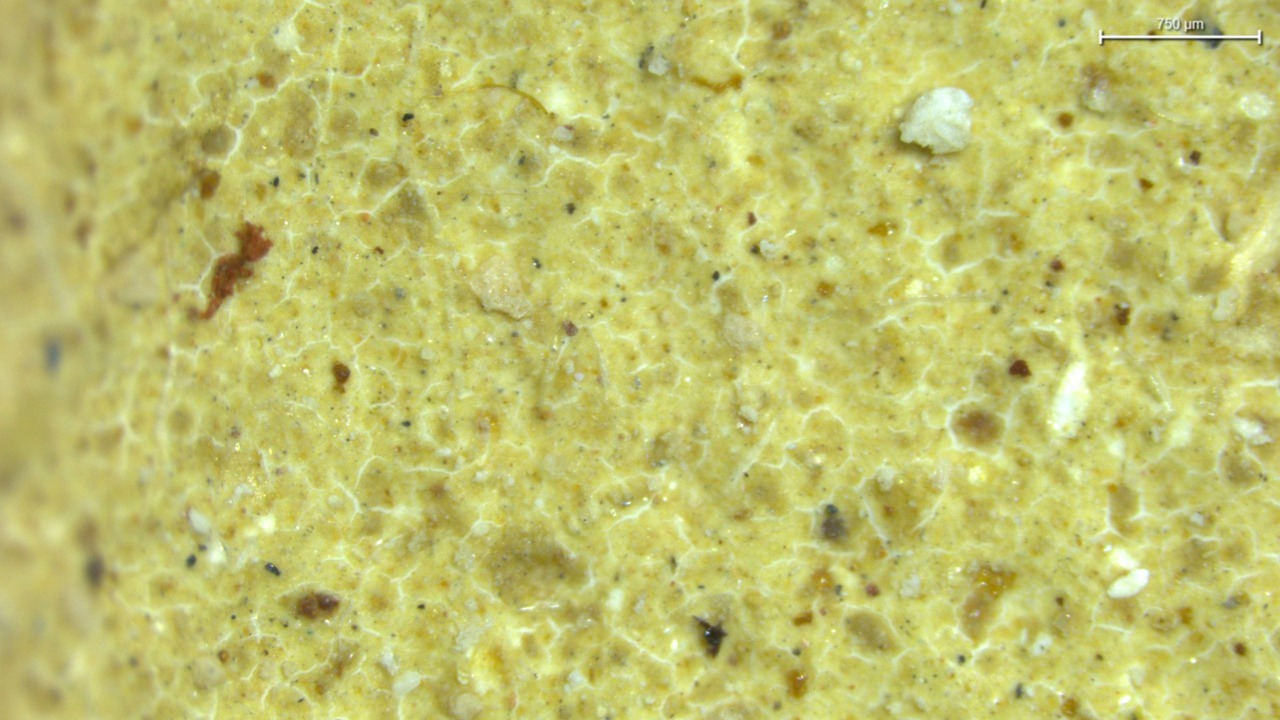microplastic_fragment: (900, 87, 973, 154)
